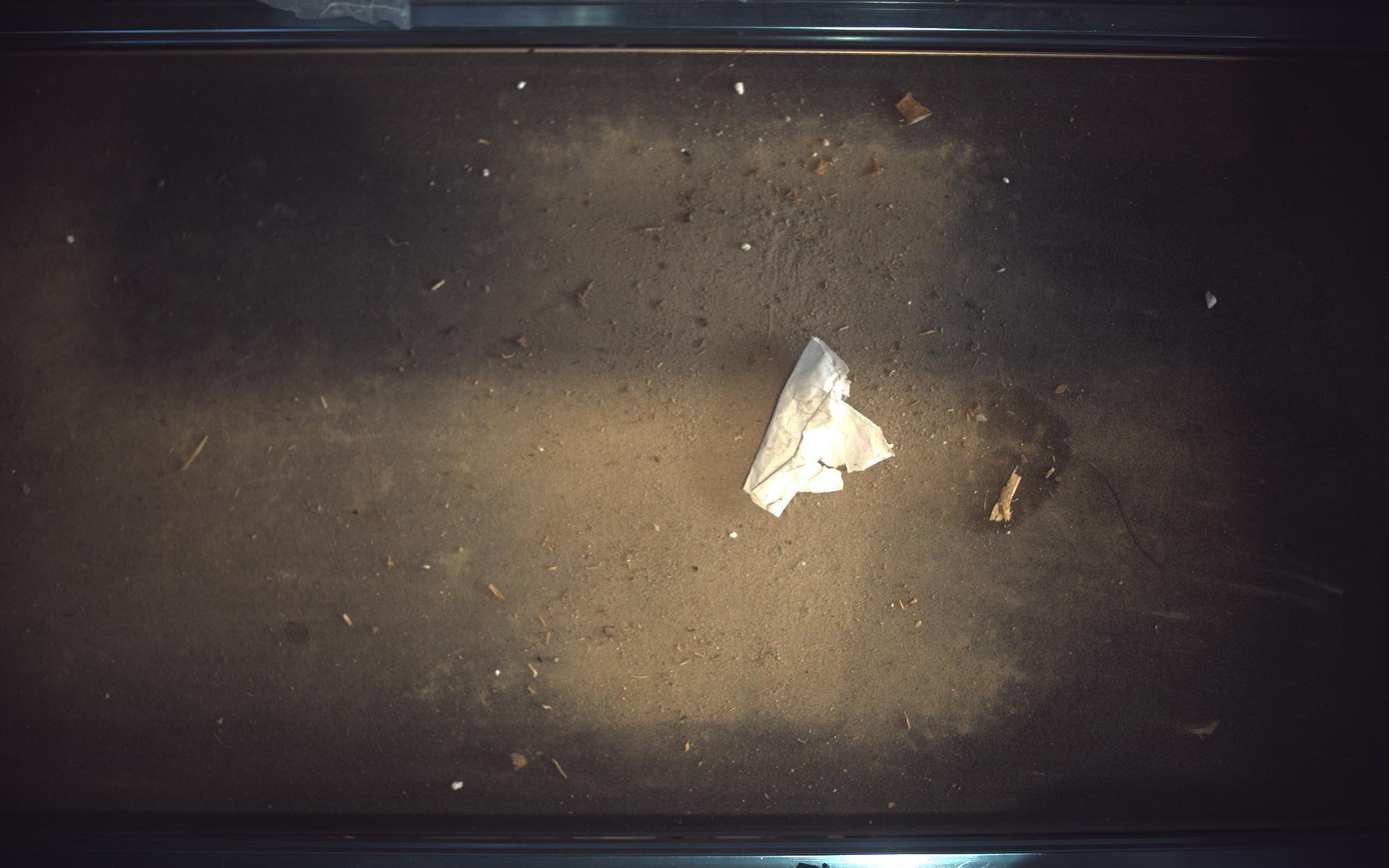general_w: (745, 336, 895, 517)
